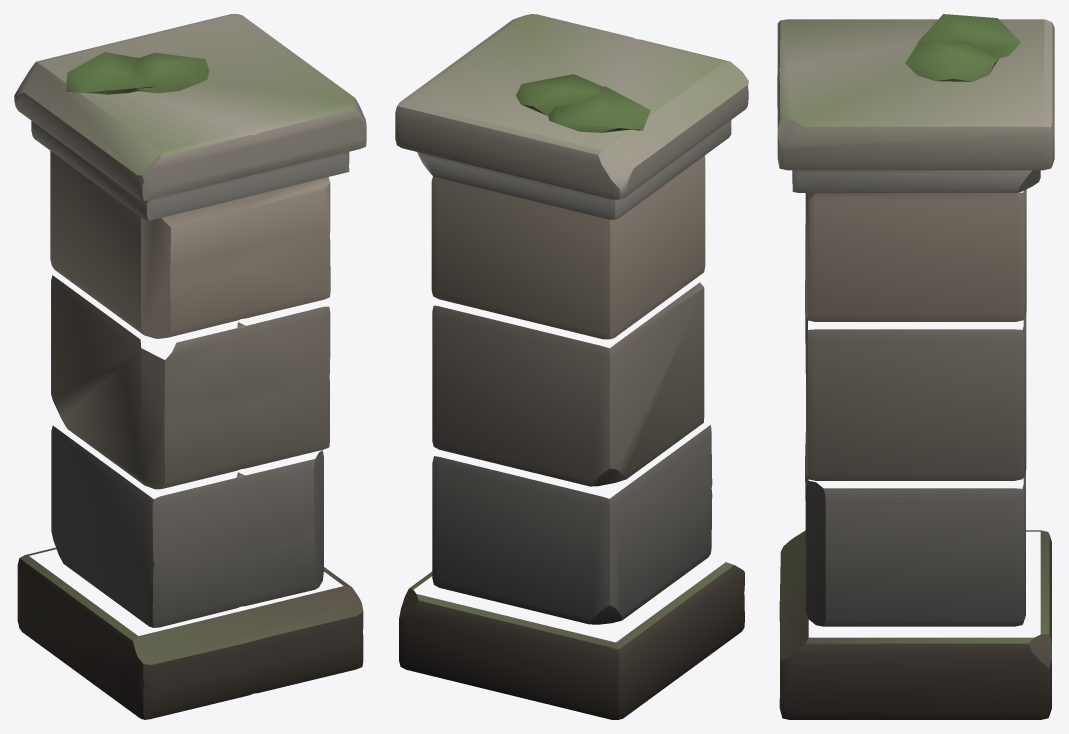
File: ruins-pier-v3.glb
The picture shows the model from 3 angles, left to right: view 1: azimuth 30°, elevation 25°; view 2: azimuth 150°, elevation 25°; view 3: azimuth 270°, elevation 25°; orthographic projection. The views are drawn at different scales.
Visible parts, largest first — view 1: 0_ruins_pier; view 2: 0_ruins_pier; view 3: 0_ruins_pier.
Part boxes in pixels (x1=…): 0_ruins_pier: x1=14, y1=14, x2=366, y2=719; 0_ruins_pier: x1=395, y1=14, x2=748, y2=719; 0_ruins_pier: x1=777, y1=14, x2=1054, y2=719.
Bounding box in the file's own units: 1 × 2.4 × 0.9949.
